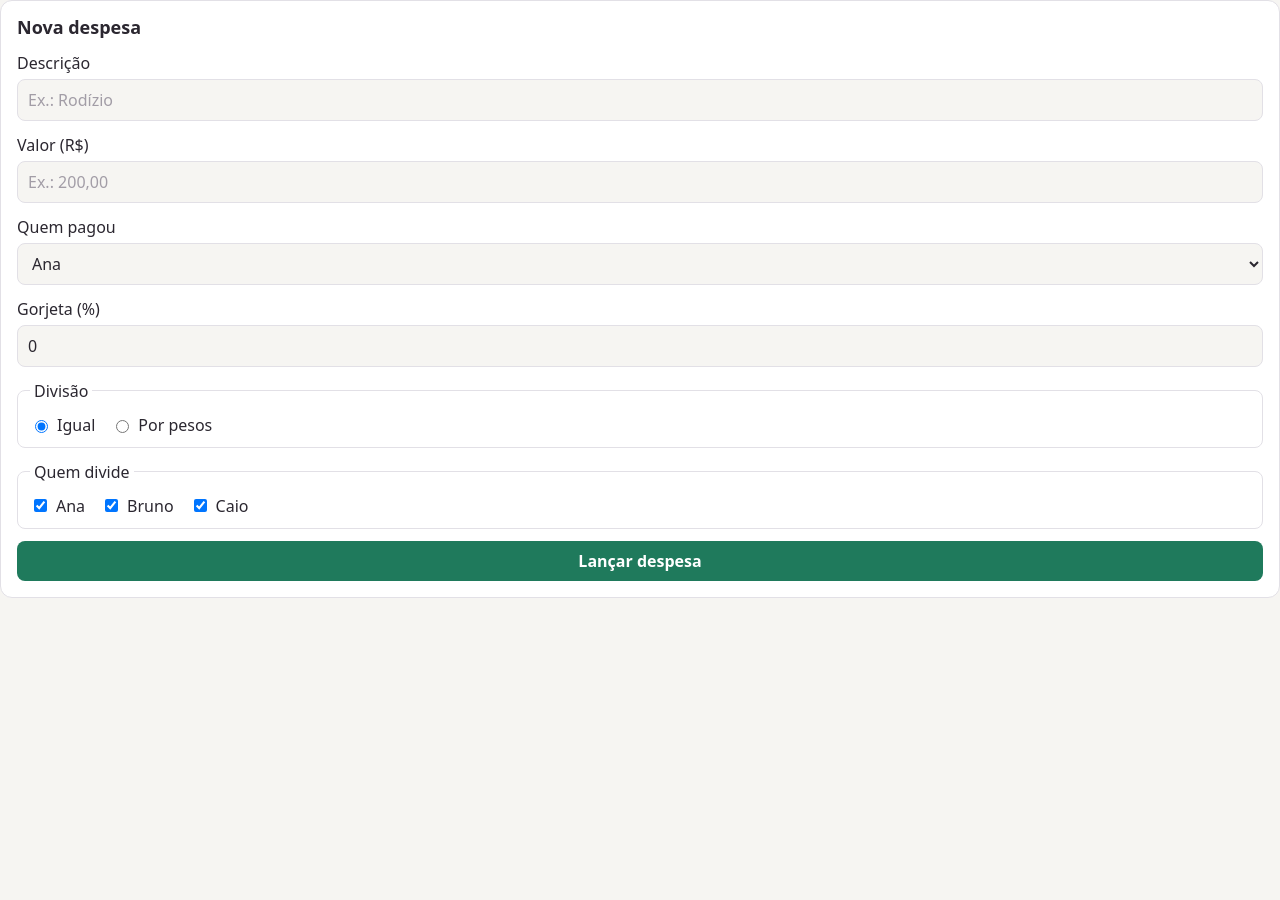
Test: DespesaForm › deve recusar com mensagem quando a gorjeta passa de 30%
Type "200,00" into the field labelled "Valor (R$)" at (640, 182), box 17,161 -> 1263,203
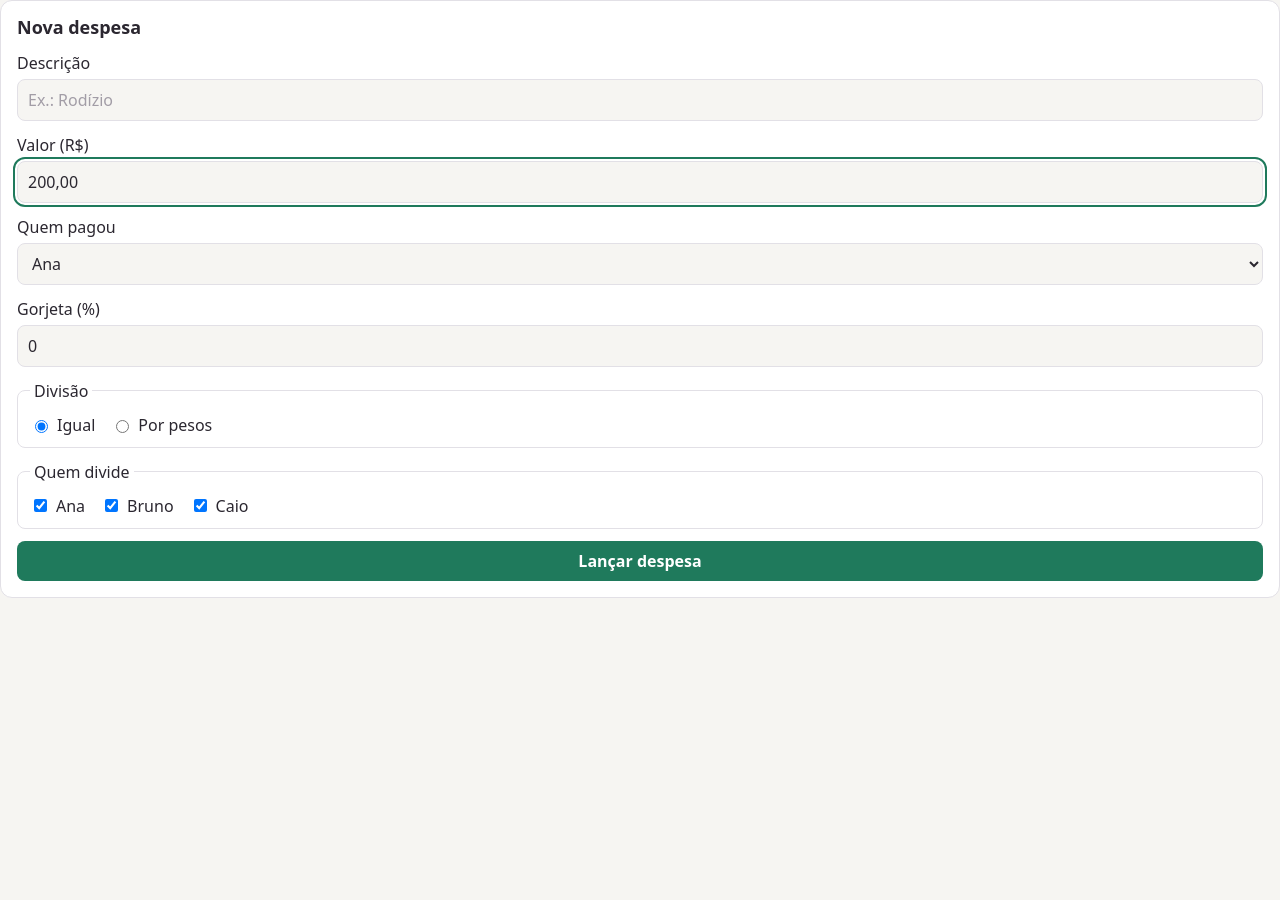
Replace the text in the number field labelled "Gorjeta (%)" with "31" at (640, 346), box 17,325 -> 1263,367
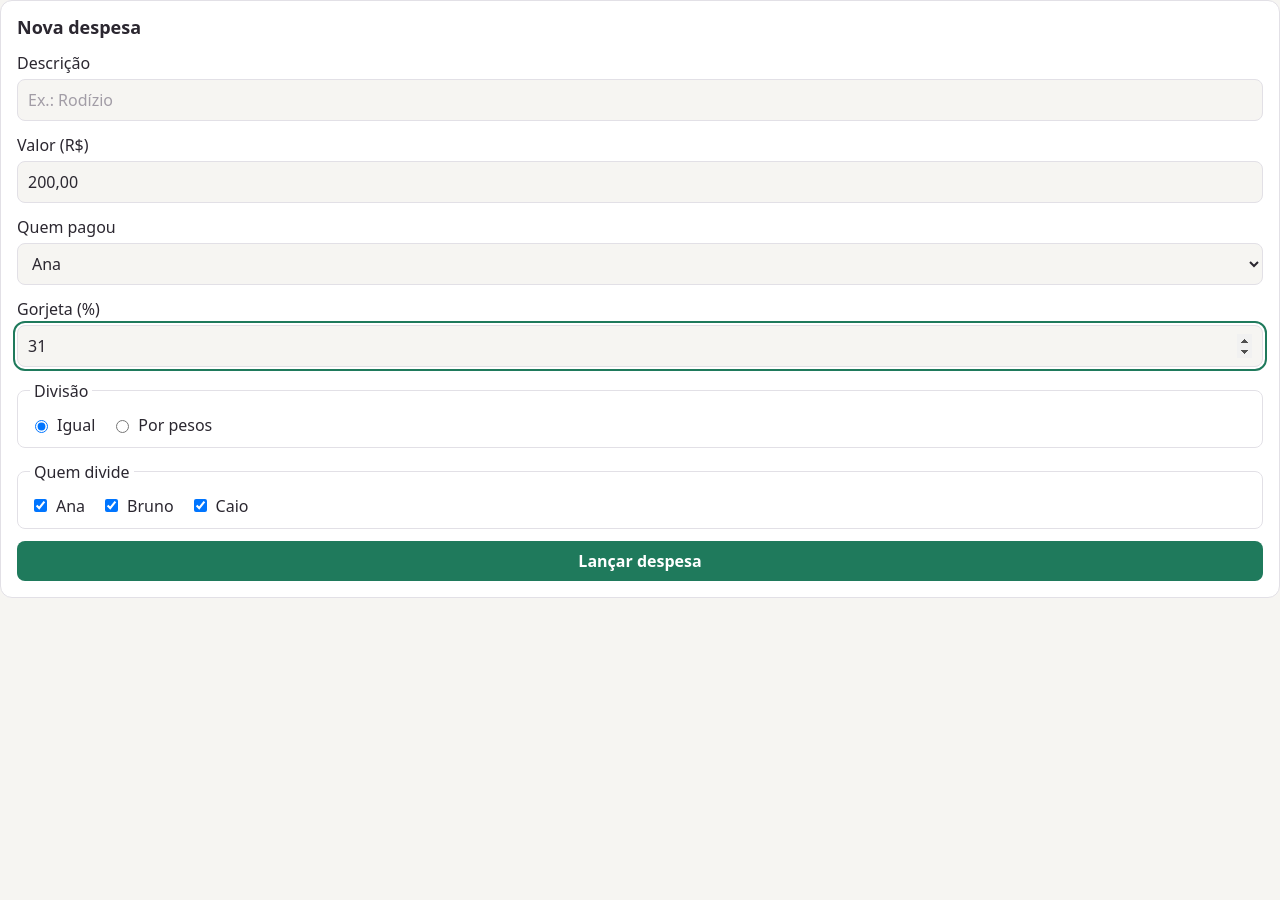
Click the button "Lançar despesa" at (640, 561), box 17,541 -> 1263,581
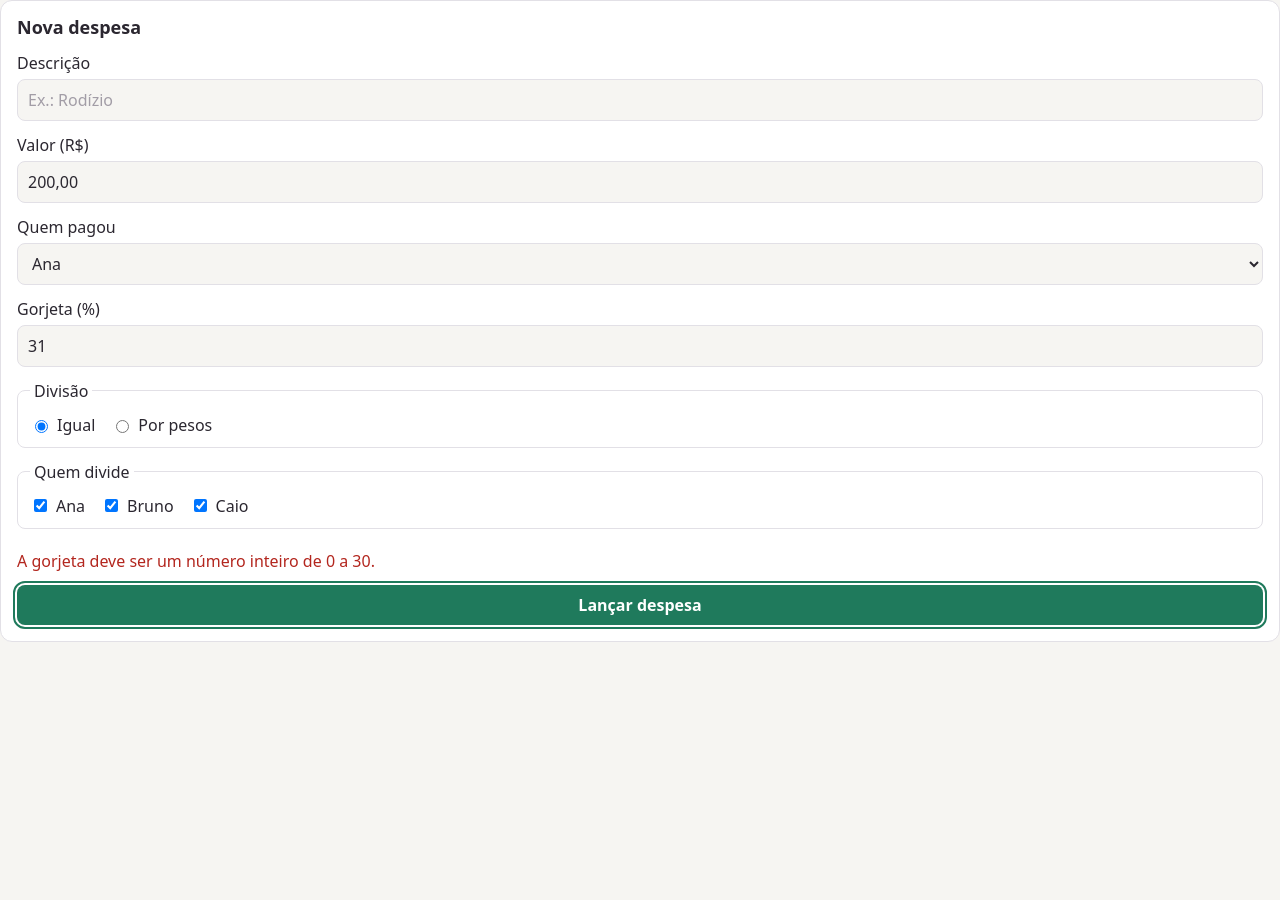
Now the message reads "A gorjeta deve ser um número inteiro de 0 a 30.", box 17,550 -> 375,572
